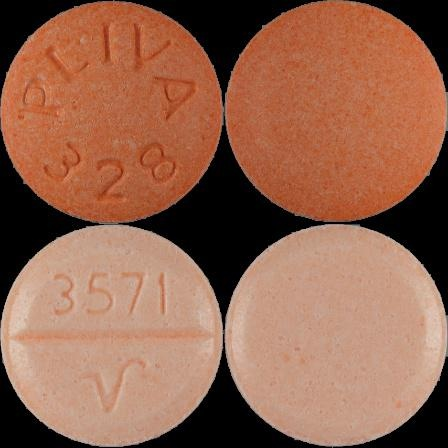63739-127: (0, 0, 224, 224)
